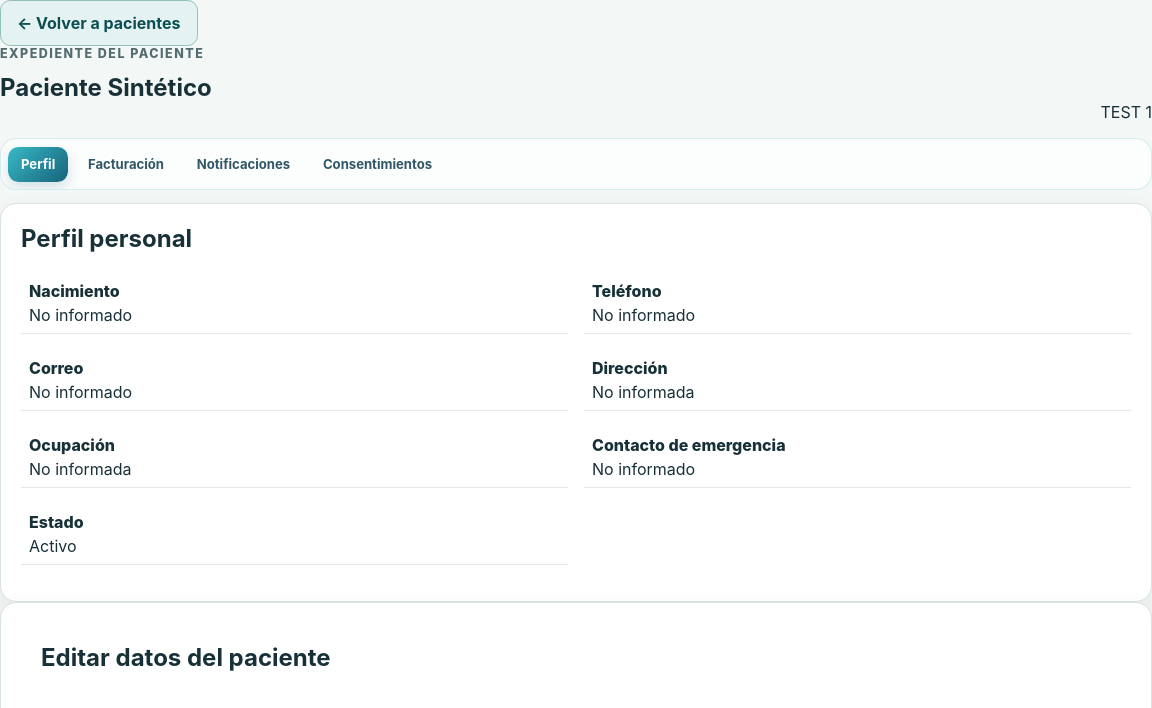
expediente del paciente › muestra la carga nueva y permite adjuntar un escaneo a un consentimiento anterior
Click the tab "Consentimientos". click: point(377, 164)
box: [310,147,445,182]
(page scrolled)
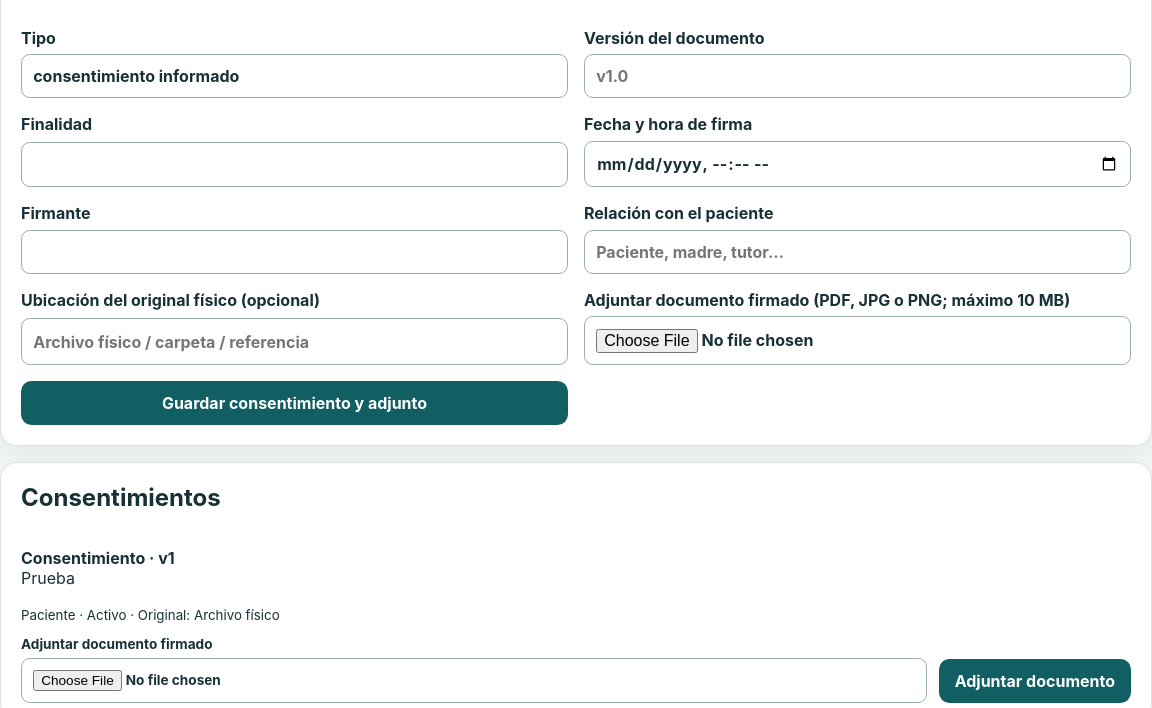
Expected: the text "Consentimiento · v1" is shown, [21,548,175,568]
Expected: the button "Guardar consentimiento y adjunto" is shown, [21,381,568,425]
Expected: the button "Adjuntar documento" is shown, [939,659,1131,703]
